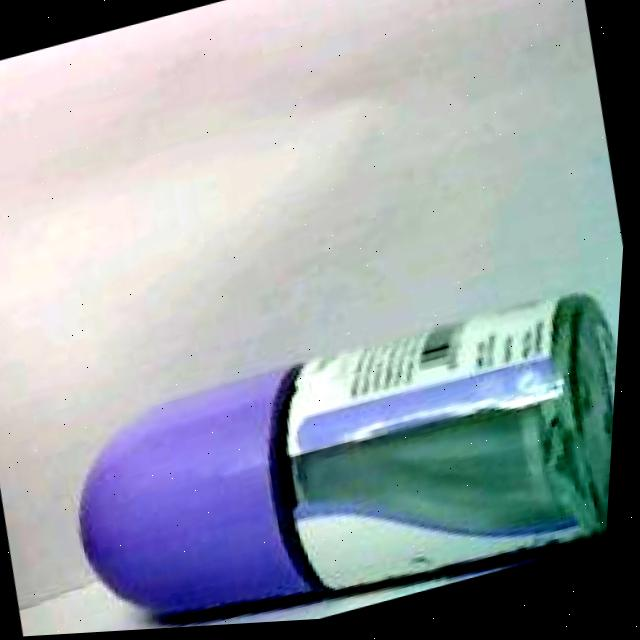yardley_rollon: (83, 299, 622, 630)
